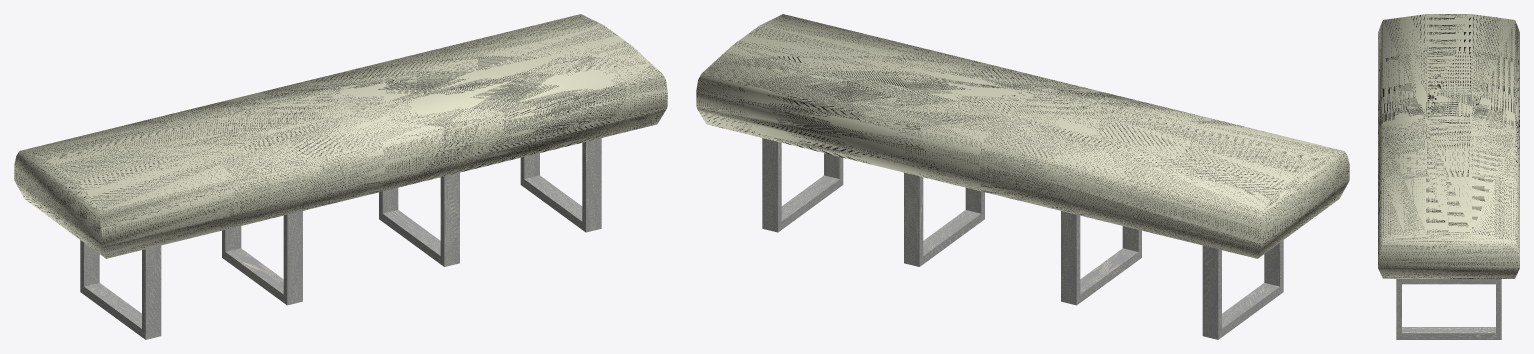
3 views of the same model, side by side, from view 1: azimuth 30°, elevation 25°; view 2: azimuth 150°, elevation 25°; view 3: azimuth 270°, elevation 25° (orthographic). The views are drawn at different scales.
Parts seen in each view (by area): view 1: mesh3_mesh3-geometry, mesh1_mesh1-geometry, mesh2_mesh2-geometry; view 2: mesh3_mesh3-geometry, mesh1_mesh1-geometry, mesh2_mesh2-geometry; view 3: mesh3_mesh3-geometry, mesh2_mesh2-geometry.
Part boxes in pixels (x1,y1,x2,y2): mesh3_mesh3-geometry: (14,14,667,258); mesh1_mesh1-geometry: (80,211,302,339); mesh2_mesh2-geometry: (379,138,601,266); mesh3_mesh3-geometry: (696,14,1349,258); mesh1_mesh1-geometry: (1061,211,1283,339); mesh2_mesh2-geometry: (762,138,984,266); mesh3_mesh3-geometry: (1378,14,1519,278); mesh2_mesh2-geometry: (1396,279,1501,339).
Size of the model in its own units: 0.9355 by 0.2483 by 0.2512.
